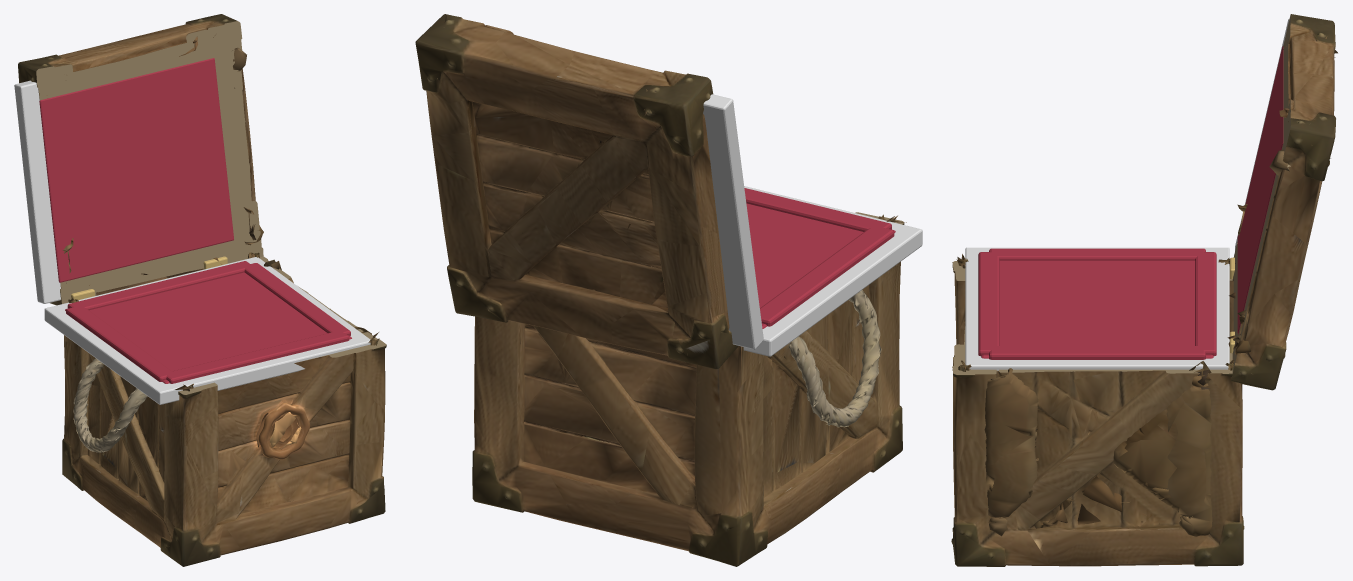
File: Box_H1_Open.fbx
3 renders of one model, left to right at view 1: azimuth 30°, elevation 25°; view 2: azimuth 150°, elevation 25°; view 3: azimuth 270°, elevation 25°, orthographic. The views are drawn at different scales.
Parts seen in each view (by area): view 1: LidPivot, BoxBody, VelvetInterior, VelvetRim, VelvetBolsterY_-1.0, VelvetBolsterY_1.0, VelvetBolsterX_-1.0, VelvetBolsterX_1.0; view 2: LidPivot, BoxBody, VelvetInterior, VelvetRim, VelvetBolsterX_-1.0, VelvetBolsterY_-1.0; view 3: BoxBody, LidPivot, VelvetInterior, VelvetRim, VelvetBolsterX_1.0, VelvetBolsterX_-1.0, VelvetBolsterY_-1.0, VelvetBolsterY_1.0.
Boxes of the visible parts, x1,y1,x2,y2 form: LidPivot: (14, 14, 263, 305); BoxBody: (62, 252, 386, 566); VelvetInterior: (65, 272, 351, 383); VelvetRim: (44, 257, 370, 404); VelvetBolsterY_-1.0: (166, 332, 349, 383); VelvetBolsterY_1.0: (67, 261, 251, 310); VelvetBolsterX_-1.0: (66, 307, 173, 381); VelvetBolsterX_1.0: (244, 263, 350, 335); LidPivot: (415, 14, 763, 369); BoxBody: (472, 212, 906, 566); VelvetInterior: (746, 203, 895, 328); VelvetRim: (743, 186, 922, 356); VelvetBolsterX_-1.0: (760, 228, 894, 326); VelvetBolsterY_-1.0: (744, 188, 891, 231); BoxBody: (951, 254, 1244, 566); LidPivot: (1227, 14, 1337, 390); VelvetInterior: (981, 260, 1213, 358); VelvetRim: (965, 247, 1229, 370); VelvetBolsterX_1.0: (989, 346, 1205, 359); VelvetBolsterX_-1.0: (989, 248, 1205, 260); VelvetBolsterY_-1.0: (978, 252, 999, 356); VelvetBolsterY_1.0: (1195, 252, 1216, 356).
Size of the model in its own units: 0.3841 by 0.6073 by 0.4705.
